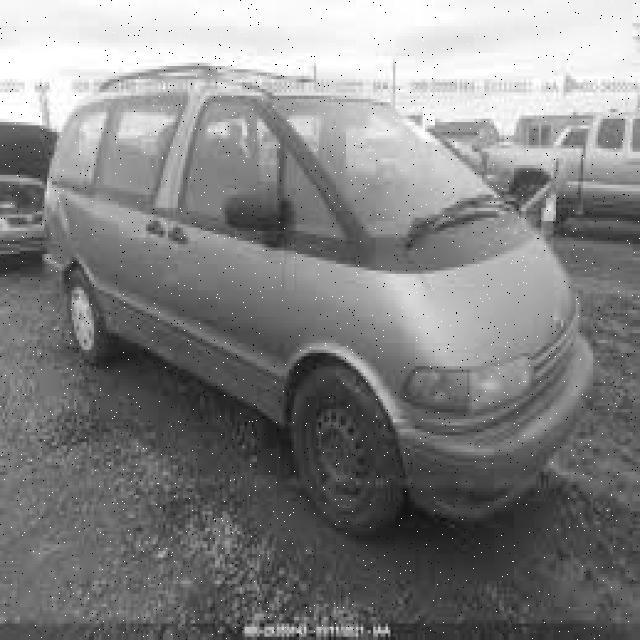Van: (0, 35, 635, 548)
